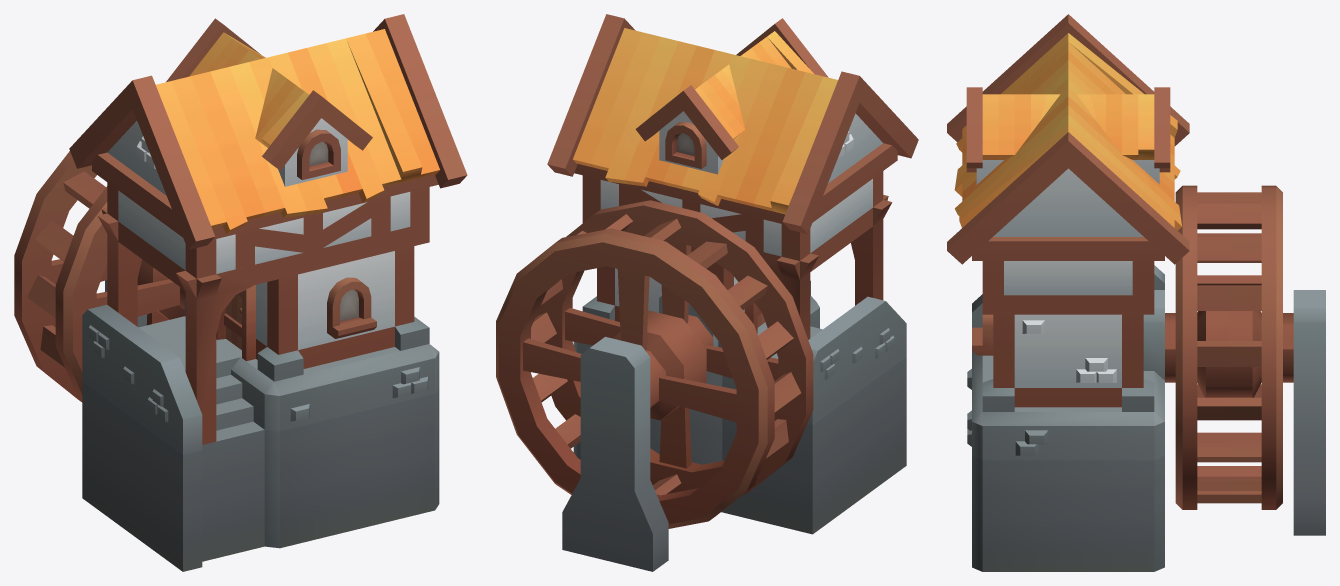
The model's file is kay-moinho-agua-amarelo.gltf.
The picture shows the model from 3 angles, left to right: view 1: azimuth 30°, elevation 25°; view 2: azimuth 150°, elevation 25°; view 3: azimuth 270°, elevation 25°; orthographic projection. The views are drawn at different scales.
Parts seen in each view (by area): view 1: building_watermill_yellow; view 2: building_watermill_yellow; view 3: building_watermill_yellow.
Boxes of the visible parts, x1,y1,x2,y2 form: building_watermill_yellow: [14, 14, 467, 571]; building_watermill_yellow: [496, 14, 918, 571]; building_watermill_yellow: [947, 14, 1325, 571].
Bounding box in the file's own units: 5.25 × 7.84 × 6.18.
1 material, 1 textured.
